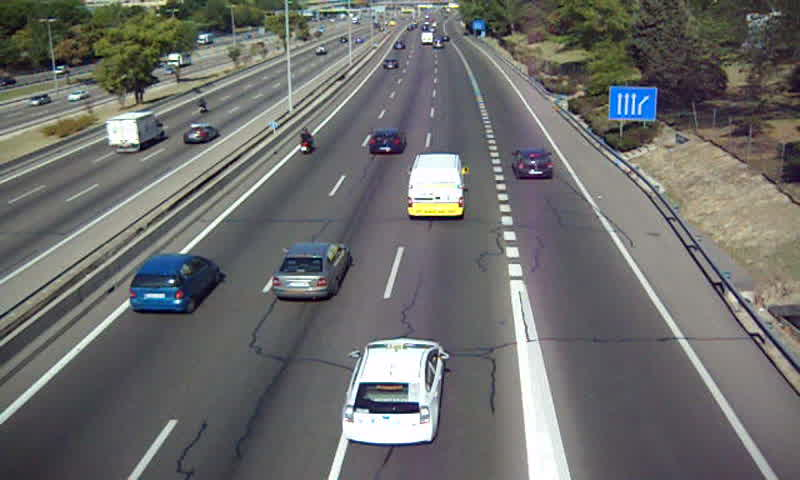car: (343, 339, 442, 444), (128, 254, 216, 314), (270, 243, 348, 300), (511, 146, 556, 178), (369, 127, 409, 154), (380, 58, 400, 72)
motorcycle: (298, 127, 314, 158)
van: (407, 153, 465, 218)
